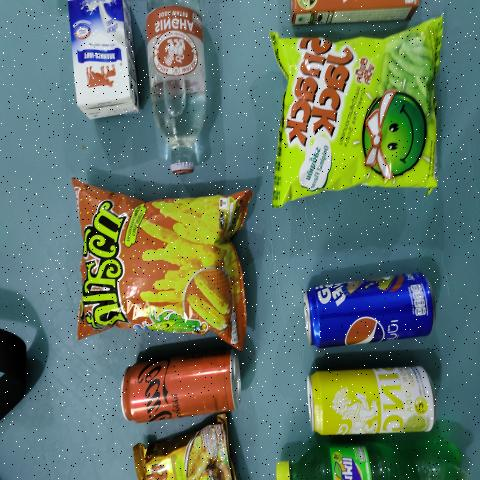coke_red: (123, 354, 241, 420)
pepsi_blue: (310, 271, 436, 340)
singha_soda: (152, 10, 200, 168)
singha_yellow: (314, 367, 428, 435)
snack_jack: (277, 32, 440, 191)
thai_denmark: (71, 0, 132, 111)
twisco: (84, 212, 232, 326)
